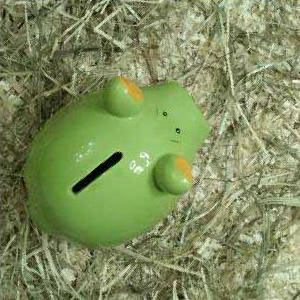piggy: (24, 77, 210, 247)
